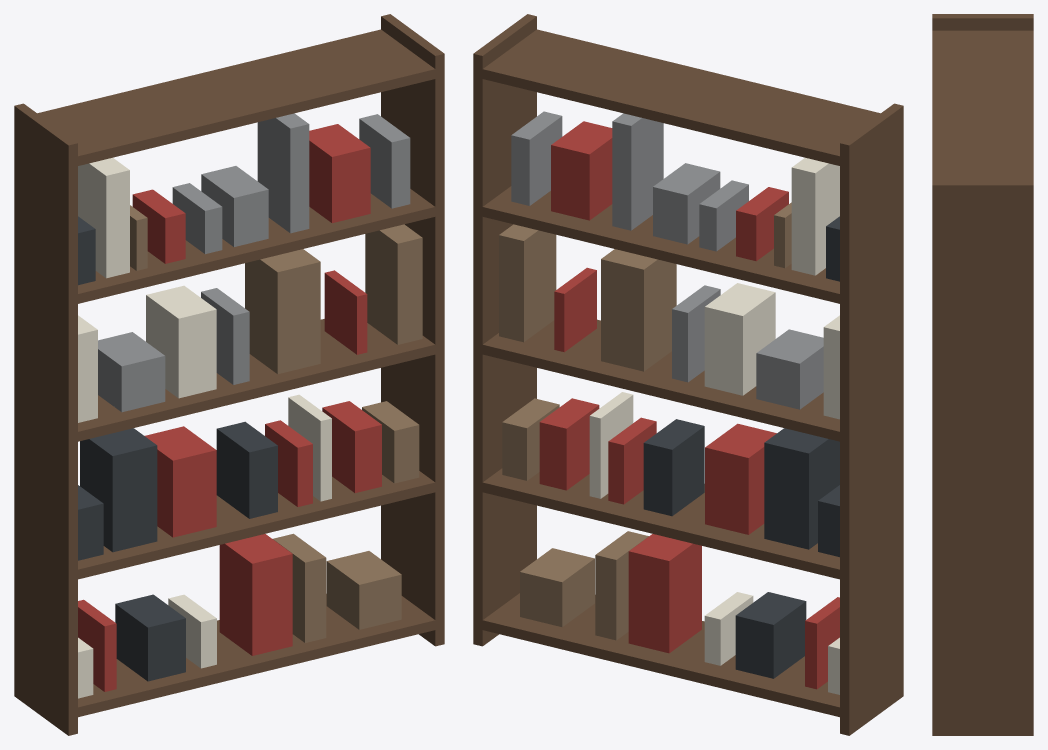
The model's file is shelf.glb.
3 renders of one model, left to right at view 1: azimuth 30°, elevation 25°; view 2: azimuth 150°, elevation 25°; view 3: azimuth 270°, elevation 25°, orthographic. The views are drawn at different scales.
Parts seen in each view (by area): view 1: shelf; view 2: shelf; view 3: shelf.
Part boxes in pixels (x1,y1,x2,y2): shelf: [14, 14, 444, 735]; shelf: [473, 14, 903, 735]; shelf: [932, 14, 1033, 735].
Bounding box in the file's own units: 1.2 × 1.8 × 0.3.
